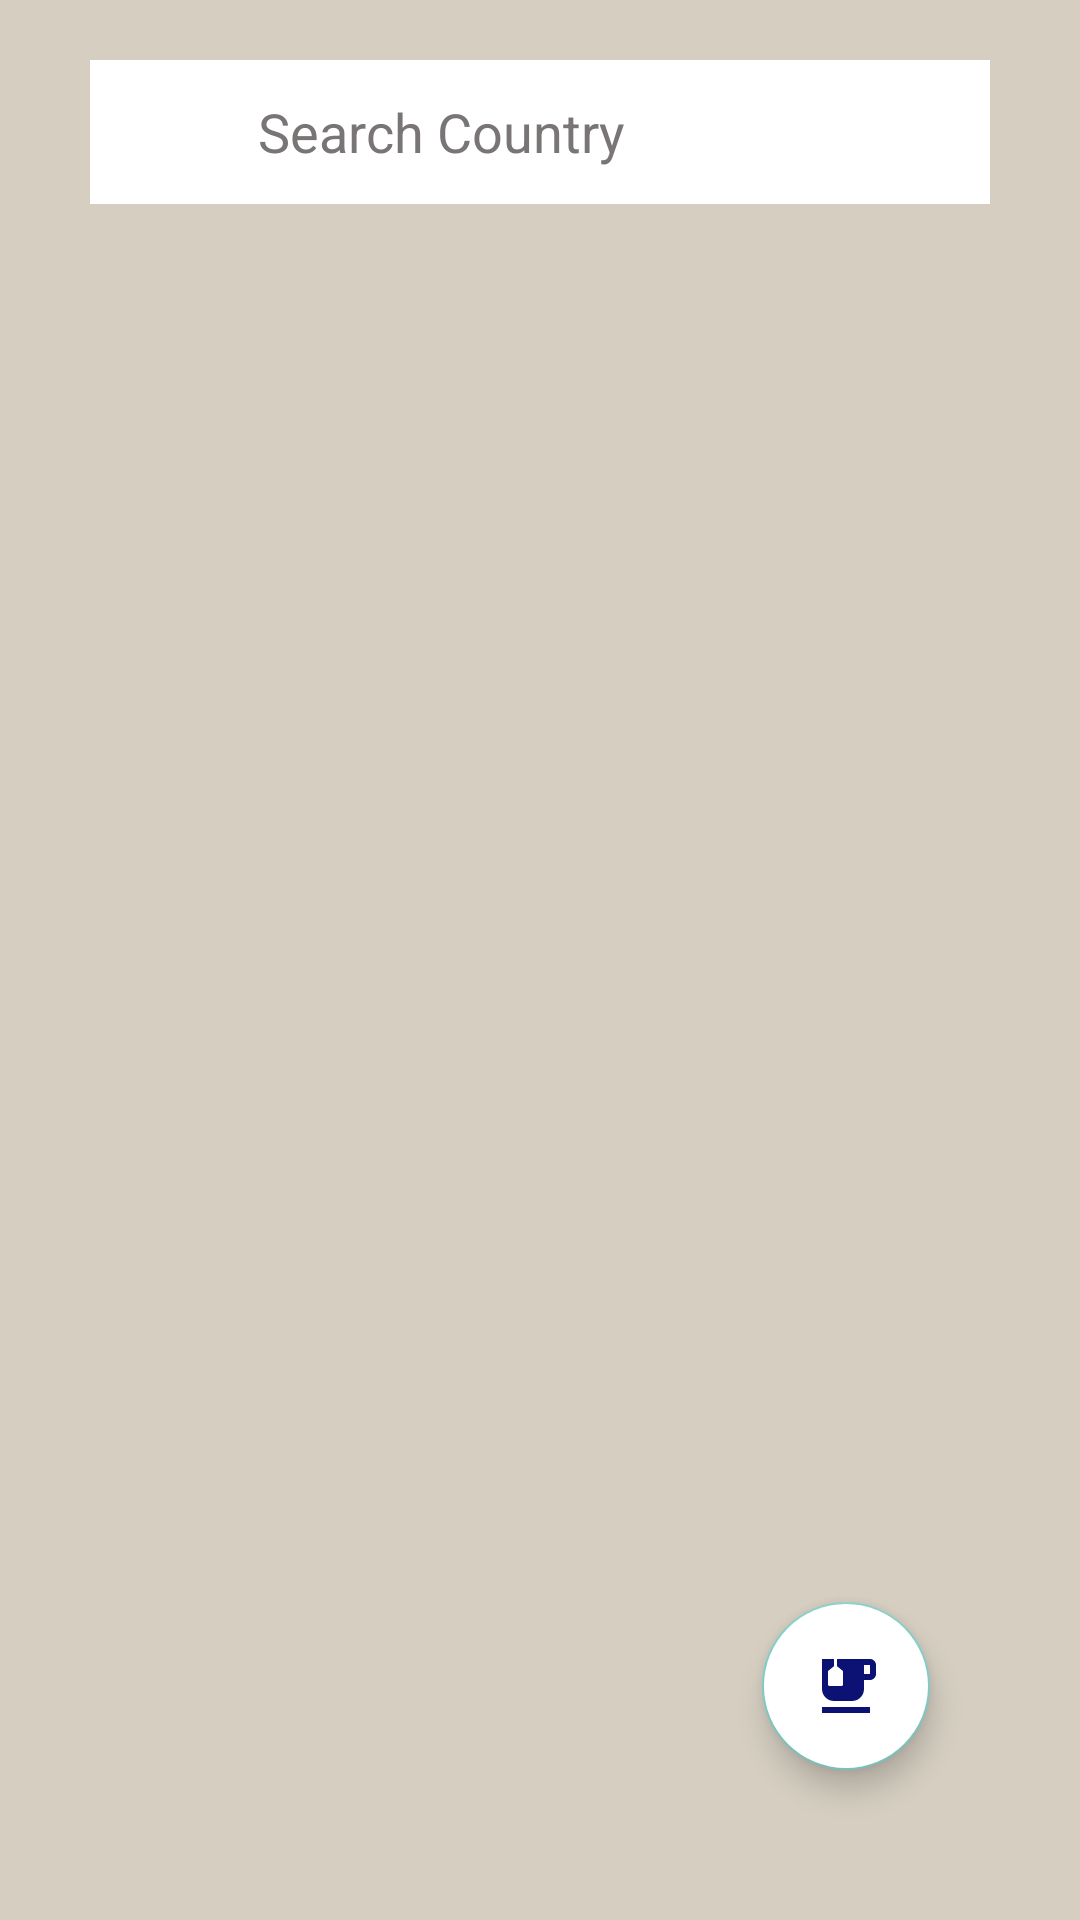

Screen size 1080*1920. Icon name, then its box in pixels as BBox(x1, y1, x2, y2):
emoji food beverage: BBox(762, 1602, 930, 1770)
